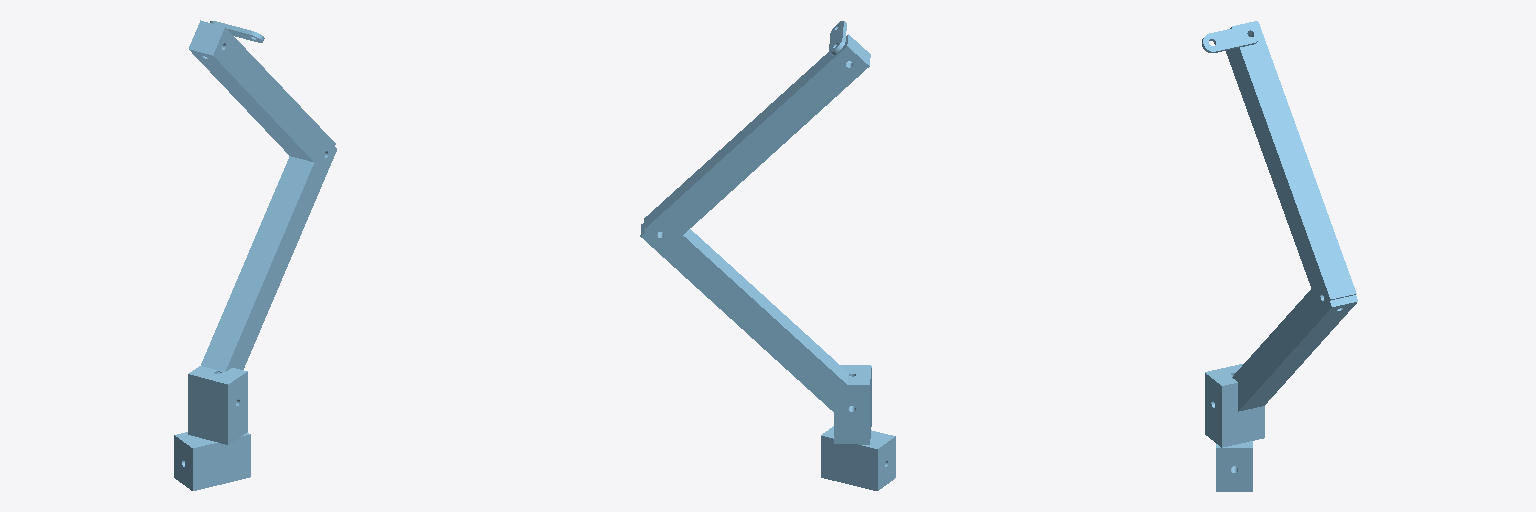
The robot description file, URDF, robot "onshape":
<?xml version="1.0" encoding="UTF-8" ?>
<robot name="onshape" xmlns:xacro="http://ros.org/wiki/xacro">

<link name="world"/>

<!-- Add a fixed joint between world and servo -->
<joint name="world_joint" type="fixed">
    <parent link="world"/>
    <child link="servo"/>
    <origin xyz="0.0 0.0 0.0" rpy="0.0 0.0 0.0"/>
</joint>


 <link name="servo">
    <visual>
        <origin xyz="0.032718666788579785221 -0.026375442291109735954 0.0073018751187259589575" rpy="0.0 -0.0 0.0" />
        <geometry>
        <mesh filename="package://sapien_arm/description/meshes/visual/servo.dae"/>
        </geometry>
        <material name="">
        <color rgba="0.61568627450980395466 0.81176470588235294379 0.92941176470588238168 1.0"/>
        </material>
    </visual>
    <collision>
        <origin xyz="0.032718666788579785221 -0.026375442291109735954 0.0073018751187259589575" rpy="0.0 -0.0 0.0" />
        <geometry>
        <mesh filename="package://sapien_arm/description/meshes/collision/servo.stl"/>
        </geometry>
    </collision>
        <inertial>
        <origin xyz="0.032652007527250198615 -0.026375441741982637994 0.023301874940578035794" rpy="0.0 0.0 0.0"/>
        <mass value="0.093399232466800610752" />
        <inertia ixx="1.3101911709957606207e-05" ixy="-1.9163164104932232372e-13"  ixz="1.9890621813240049023e-13" iyy="2.4292764890865188316e-05" iyz="4.936677392002600175e-13" izz="2.1087845681977408194e-05" />
        </inertial>
 </link>

<link name="servo_2">
<visual>
<origin xyz="0.0 0.016000000000000000333 -0.022610000000000005094" rpy="1.570796326794896558 1.570796326794896558 0.0" />
<geometry>
<mesh filename="package://sapien_arm/description/meshes/visual/servo.dae"/>
</geometry>
<material name="">
<color rgba="0.61568627450980395466 0.81176470588235294379 0.92941176470588238168 1.0"/>
</material>
</visual>
<collision>
<origin xyz="0.0 0.016000000000000000333 -0.022610000000000005094" rpy="1.570796326794896558 1.570796326794896558 0.0" />
<geometry>
<mesh filename="package://sapien_arm/description/meshes/collision/servo.stl"/>
</geometry>
</collision>
<inertial>
<origin xyz="5.4912709887992926091e-10 1.7814792349635233393e-10 -0.022543340738670421958" rpy="0.0 0.0 0.0"/>
<mass value="0.093399232466800610752" />
<inertia ixx="2.4292764890865188316e-05" ixy="-4.936677377929595266e-13"  ixz="1.9163164104932232372e-13" iyy="2.1087845681977408194e-05" iyz="1.9890621813240049023e-13" izz="1.3101911709957606207e-05" />
</inertial>
</link>

<link name="tube">
<visual>
<origin xyz="-1.3877787807814456755e-17 0.0 -0.009859364479780200613" rpy="1.570796326794896558 1.570796326794896558 0.0" />
<geometry>
<mesh filename="package://sapien_arm/description/meshes/visual/tube.dae"/>
</geometry>
<material name="">
<color rgba="0.61568627450980395466 0.81176470588235294379 0.92941176470588238168 1.0"/>
</material>
</visual>
<collision>
<origin xyz="-1.3877787807814456755e-17 0.0 -0.009859364479780200613" rpy="1.570796326794896558 1.570796326794896558 0.0" />
<geometry>
<mesh filename="package://sapien_arm/description/meshes/collision/tube.stl"/>
</geometry>
</collision>
<inertial>
<origin xyz="-0.093644322751974831687 -7.9196223765219620537e-11 -0.0098593640573185412079" rpy="0.0 0.0 0.0"/>
<mass value="0.22962996415282821427" />
<inertia ixx="1.6542633726599465085e-05" ixy="-7.1610702985942383269e-13"  ixz="7.703350553304966414e-12" iyy="0.0007572461571922548115" iyz="6.8500618598074219517e-13" izz="0.00075885016345083569807" />
</inertial>
</link>

<link name="tube_2">
<visual>
<origin xyz="1.3877787807814456755e-17 0.0 -0.0098593644797801971436" rpy="1.570796326794896558 1.570796326794896558 0.0" />
<geometry>
<mesh filename="package://sapien_arm/description/meshes/visual/tube.dae"/>
</geometry>
<material name="">
<color rgba="0.61568627450980395466 0.81176470588235294379 0.92941176470588238168 1.0"/>
</material>
</visual>
<collision>
<origin xyz="1.3877787807814456755e-17 0.0 -0.0098593644797801971436" rpy="1.570796326794896558 1.570796326794896558 0.0" />
<geometry>
<mesh filename="package://sapien_arm/description/meshes/collision/tube.stl"/>
</geometry>
</collision>
<inertial>
<origin xyz="-0.093644322751974803931 -7.919622399204080338e-11 -0.0098593640573185429427" rpy="0.0 0.0 0.0"/>
<mass value="0.22962996415282821427" />
<inertia ixx="1.6542633726599465085e-05" ixy="-7.1610701043807385852e-13"  ixz="7.7033504849440625621e-12" iyy="0.00075724615719225546202" iyz="6.8500620343386295575e-13" izz="0.00075885016345083569807" />
</inertial>
</link>

<link name="link">
<visual>
<origin xyz="-0.028761368444492452223 -6.9388939039072283776e-18 -0.0029999999999999471534" rpy="1.1900733130542982356e-17 -1.2211314860100070848e-17 -7.8217795855221370653e-17" />
<geometry>
<mesh filename="package://sapien_arm/description/meshes/visual/link.dae"/>
</geometry>
<material name="">
<color rgba="0.61568627450980395466 0.81176470588235294379 0.92941176470588238168 1.0"/>
</material>
</visual>
<collision>
<origin xyz="-0.028761368444492452223 -6.9388939039072283776e-18 -0.0029999999999999471534" rpy="1.1900733130542982356e-17 -1.2211314860100070848e-17 -7.8217795855221370653e-17" />
<geometry>
<mesh filename="package://sapien_arm/description/meshes/collision/link.stl"/>
</geometry>
</collision>
<inertial>
<origin xyz="-0.014380684222246226112 -7.9924495699086997676e-18 -0.0014999999999999471222" rpy="0.0 0.0 0.0"/>
<mass value="0.0039283402337506444918" />
<inertia ixx="6.0771649686119339228e-08" ixy="-3.0266158769480650219e-23"  ixz="6.1951517681224883094e-24" iyy="4.8917487284790213221e-07" iyz="3.1671271021650150186e-23" izz="5.4405401218339539119e-07" />
</inertial>
</link> 

<joint name="gripper" type="revolute">
<origin xyz="-0.18503519892692563142 -0.010844984091818332672 -0.0098593644797802040824" rpy="-1.570796326794896558 2.044537757461839541e-15 6.0078544294123473608e-14" />
<parent link="tube_2" />
<child link="link" />
<axis xyz="0.0 0.0 1.0"/>
<limit effort="1.0" velocity="20.0" lower="3.141592653589793116" upper="6.283185307179586232"/>
<joint_properties friction="0.0"/>
</joint>

<joint name="elbow" type="revolute">
<origin xyz="-0.18500000000000002554 3.4694469519536141888e-17 3.4694469519536141888e-18" rpy="-1.3908269104259140544e-14 -1.749432667894997864e-15 -1.5707946197513502629" />
<parent link="tube" />
<child link="tube_2" />
<axis xyz="0.0 0.0 1.0"/>
<limit effort="1" velocity="20.0" lower="0.0" upper="3.141592653589793116"/>
<joint_properties friction="0.0"/>
</joint>

<joint name="shoulder" type="revolute">
<origin xyz="0.0 -0.016000000000000000333 -0.026810000000000000497" rpy="-1.570796326794896558 -0.77832067475547572766 -3.141592653589793116" />
<parent link="servo_2" />
<child link="tube" />
<axis xyz="0.0 0.0 1.0"/>
<limit effort="1" velocity="20.0" lower="0.0" upper="3.141592653589793116"/>
<joint_properties friction="0.0"/>
</joint>

<joint name="base" type="revolute">
<origin xyz="0.036918666788579787563 -0.026375442291109732484 0.039301875118725959624" rpy="3.1415926535897926719 5.3028613598959552621e-16 0.48583811193006148921" />
<parent link="servo" />
<child link="servo_2" />
<axis xyz="0.0 0.0 1.0"/>
<limit effort="1" velocity="20.0" lower="0.0" upper="6.283185307179586232"/>
<joint_properties friction="0.0"/>
</joint>

</robot>

--- What the picture shows (computed from the rendered views, not written in the file) ---
The picture shows the robot from 3 angles, left to right: view 1: azimuth 30°, elevation 25°; view 2: azimuth 150°, elevation 25°; view 3: azimuth 270°, elevation 25°; orthographic projection.
Robot: onshape — 6 links, 5 joints (4 revolute, 1 fixed); root link world; default pose: all joints at 0 but 1 set to mid-range because 0 is outside their limits (gripper = 4.71).
Links seen in each view (by area): view 1: tube, tube_2, servo_2, servo; view 2: tube_2, tube, servo, servo_2; view 3: tube_2, tube, servo_2, servo, link.
Boxes of the visible links, box(x1,y1,x2,y2) form: tube: box(201, 137, 336, 373); tube_2: box(189, 20, 335, 169); servo_2: box(188, 366, 247, 444); servo: box(174, 432, 250, 490); tube_2: box(644, 34, 870, 249); tube: box(640, 217, 858, 422); servo: box(821, 426, 895, 490); servo_2: box(834, 365, 871, 444); tube_2: box(1226, 21, 1356, 310); tube: box(1232, 281, 1357, 411); servo_2: box(1205, 364, 1264, 447); servo: box(1216, 441, 1252, 491); link: box(1202, 25, 1259, 52).
Size in the robot's own frame: 0.1574 by 0.104 by 0.3349 metres.
Meshes: 3 distinct files referenced, 5 mesh visuals loaded (3 Collada DAE).
